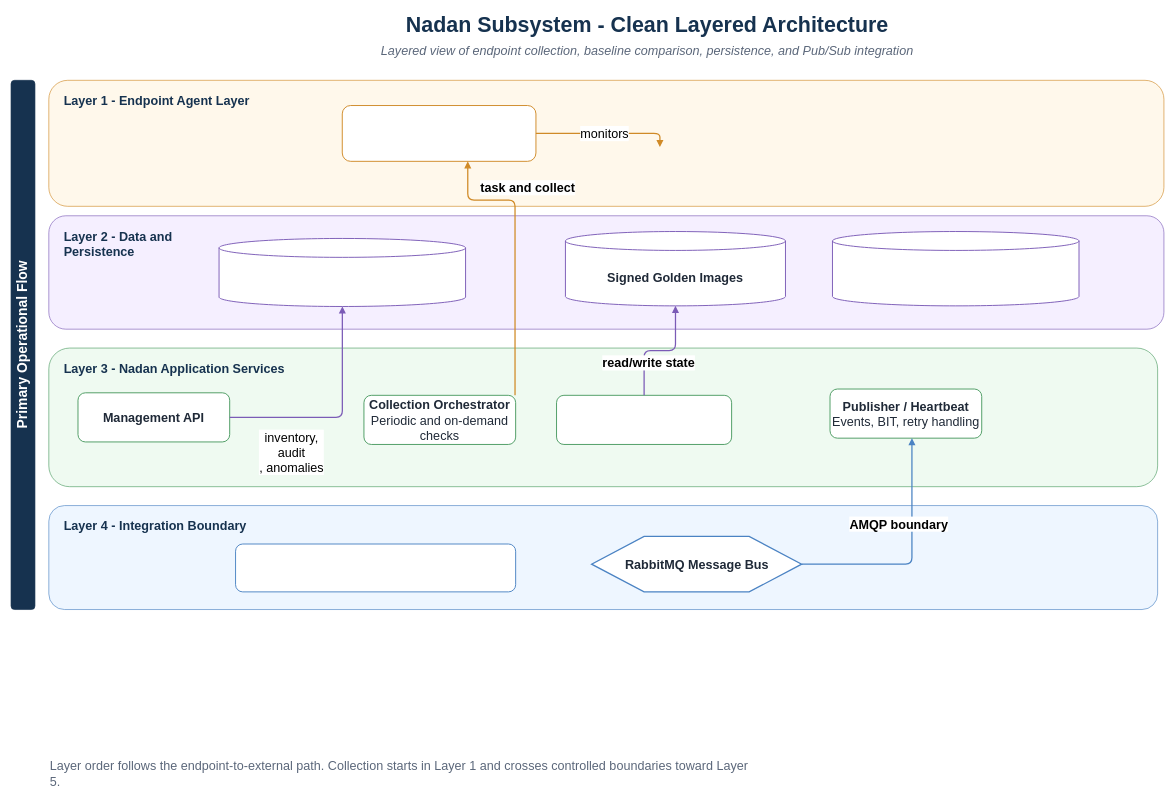
This 1175x799 diagram has some shape labels left out. The shapes that lost their labels are listed below. From the top down, each one's centre as x and y in pixels, then its label:
At (x=439, y=133): "Nadan Agent".
At (x=342, y=272): "PostgreSQL Unified DB agents, artifacts, anomalies, audit log".
At (x=955, y=268): "Artifact References Large objects stored in Agam Datalake".
At (x=644, y=420): "Baseline and Anomaly Engine Golden Configuration comparison".
At (x=375, y=567): "Security Contract mTLS, per-topic ACLs, JSON Schema".
